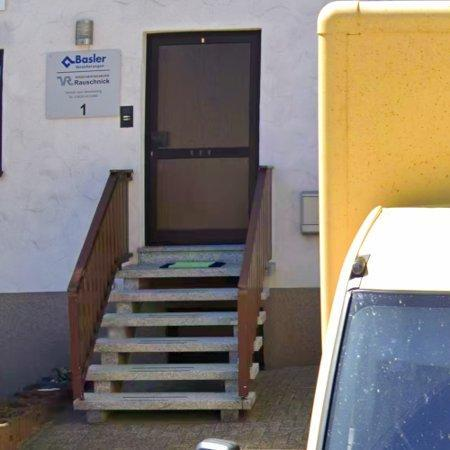stairs: (74, 245, 254, 420)
